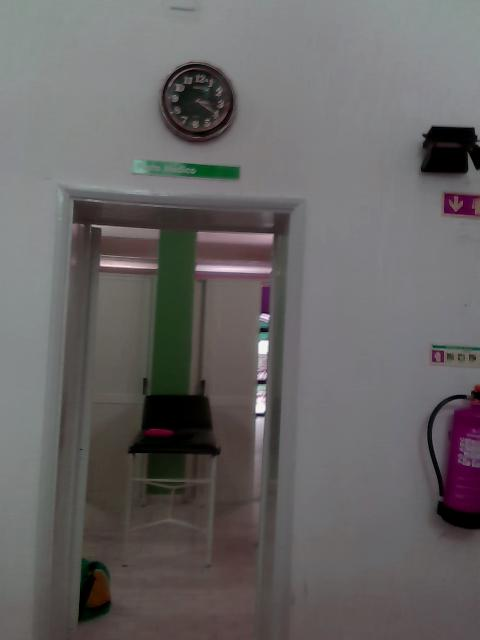open_door: (37, 183, 306, 639)
